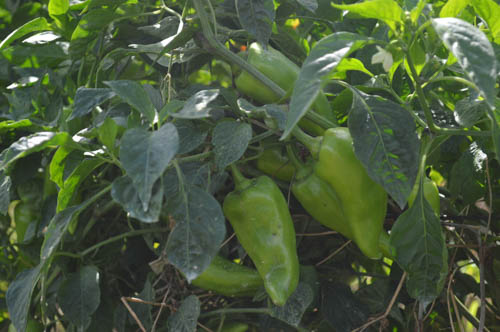ChiliPepper: (316, 127, 391, 257), (289, 170, 397, 255), (225, 179, 299, 301), (235, 41, 333, 126), (189, 259, 264, 301)
